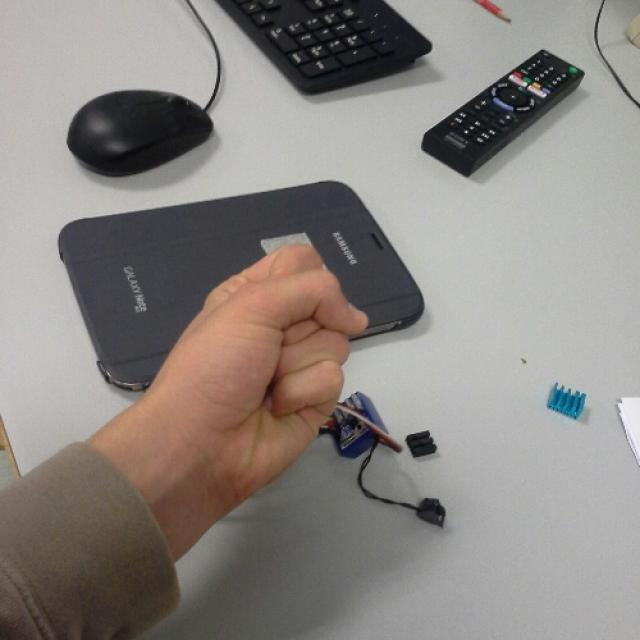rock: (155, 242, 371, 476)
